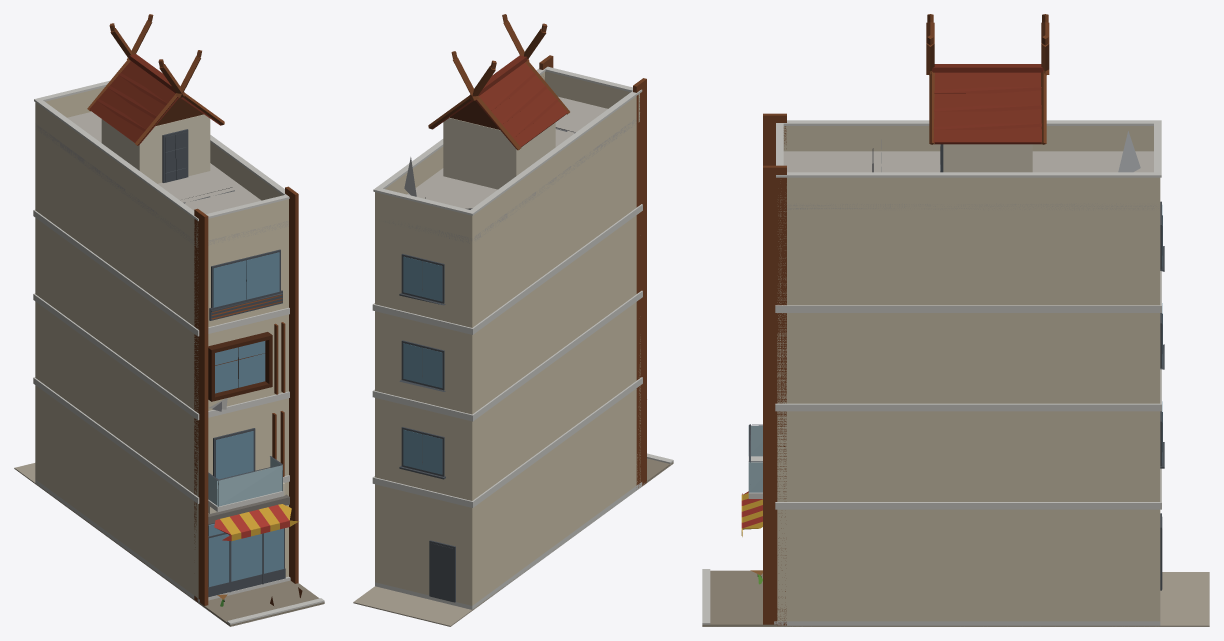
The model's file is bay2_mid2.glb.
3 renders of one model, left to right at view 1: azimuth 30°, elevation 25°; view 2: azimuth 150°, elevation 25°; view 3: azimuth 270°, elevation 25°, orthographic. The views are drawn at different scales.
Parts seen in each view (by area): view 1: body; view 2: body; view 3: body.
Part boxes in pixels (x1,y1,x2,y2): body: (14, 14, 324, 626); body: (353, 14, 673, 626); body: (702, 14, 1209, 626).
Bounding box in the file's own units: 4.12 × 20.25 × 15.9.
